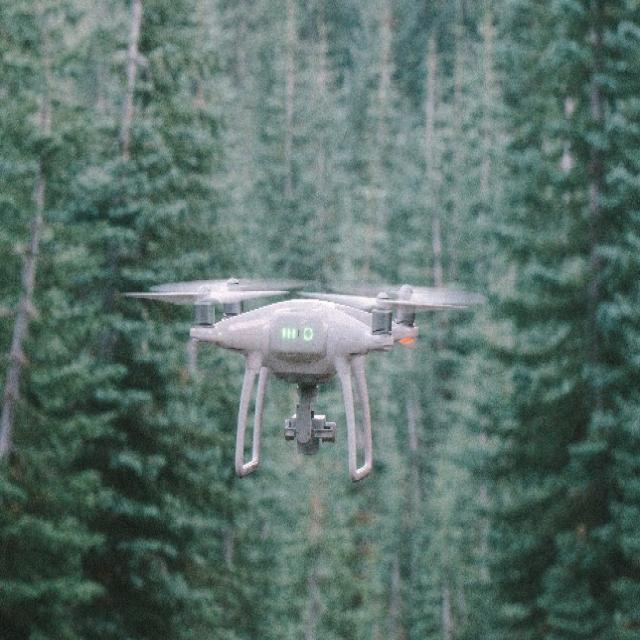drone: (110, 218, 494, 500)
